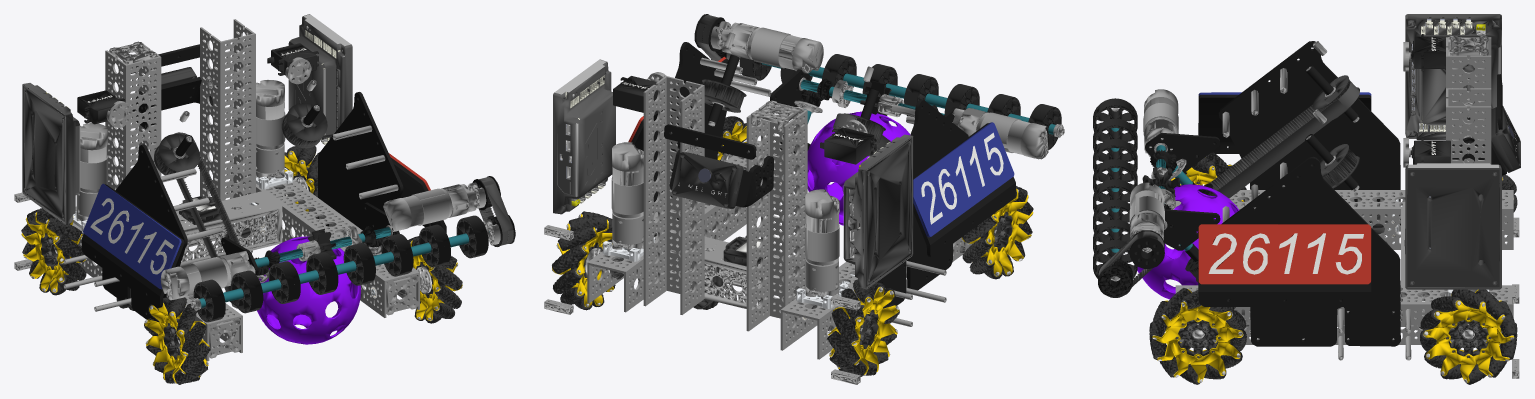
The model's file is chassis.glb.
3 views of the same model, side by side, from view 1: azimuth 30°, elevation 25°; view 2: azimuth 150°, elevation 25°; view 3: azimuth 270°, elevation 25° (orthographic). The views are drawn at different scales.
Parts seen in each view (by area): view 1: object 7, anim_ftc_4_intake_roller, anim_ftc_5_ball_low, anim_ftc_1_mecanum_rf, anim_ftc_3_mecanum_rb, anim_ftc_0_mecanum_lf, anim_ftc_2_mecanum_lb; view 2: object 7, anim_ftc_3_mecanum_rb, anim_ftc_4_intake_roller, anim_ftc_1_mecanum_rf, anim_ftc_2_mecanum_lb, anim_ftc_5_ball_low, anim_ftc_0_mecanum_lf; view 3: object 7, anim_ftc_2_mecanum_lb, anim_ftc_0_mecanum_lf, anim_ftc_4_intake_roller, anim_ftc_5_ball_low, anim_ftc_1_mecanum_rf.
Boxes of the visible parts, x1,y1,x2,y2 form: object 7: (14, 14, 515, 361); anim_ftc_4_intake_roller: (190, 215, 488, 322); anim_ftc_5_ball_low: (257, 236, 360, 344); anim_ftc_1_mecanum_rf: (144, 297, 210, 384); anim_ftc_3_mecanum_rb: (21, 208, 86, 295); anim_ftc_0_mecanum_lf: (408, 236, 462, 323); anim_ftc_2_mecanum_lb: (284, 146, 319, 218); object 7: (544, 14, 1063, 384); anim_ftc_3_mecanum_rb: (827, 279, 899, 376); anim_ftc_4_intake_roller: (739, 54, 1064, 149); anim_ftc_1_mecanum_rf: (961, 186, 1033, 279); anim_ftc_2_mecanum_lb: (552, 211, 615, 310); anim_ftc_5_ball_low: (807, 111, 910, 225); anim_ftc_0_mecanum_lf: (717, 116, 746, 160); object 7: (1097, 14, 1520, 378); anim_ftc_2_mecanum_lb: (1420, 289, 1517, 384); anim_ftc_0_mecanum_lf: (1149, 288, 1246, 384); anim_ftc_4_intake_roller: (1093, 98, 1137, 280); anim_ftc_5_ball_low: (1137, 184, 1239, 299); anim_ftc_1_mecanum_rf: (1171, 152, 1246, 201).
Bounding box in the file's own units: 0.4312 × 0.2839 × 0.4557.
